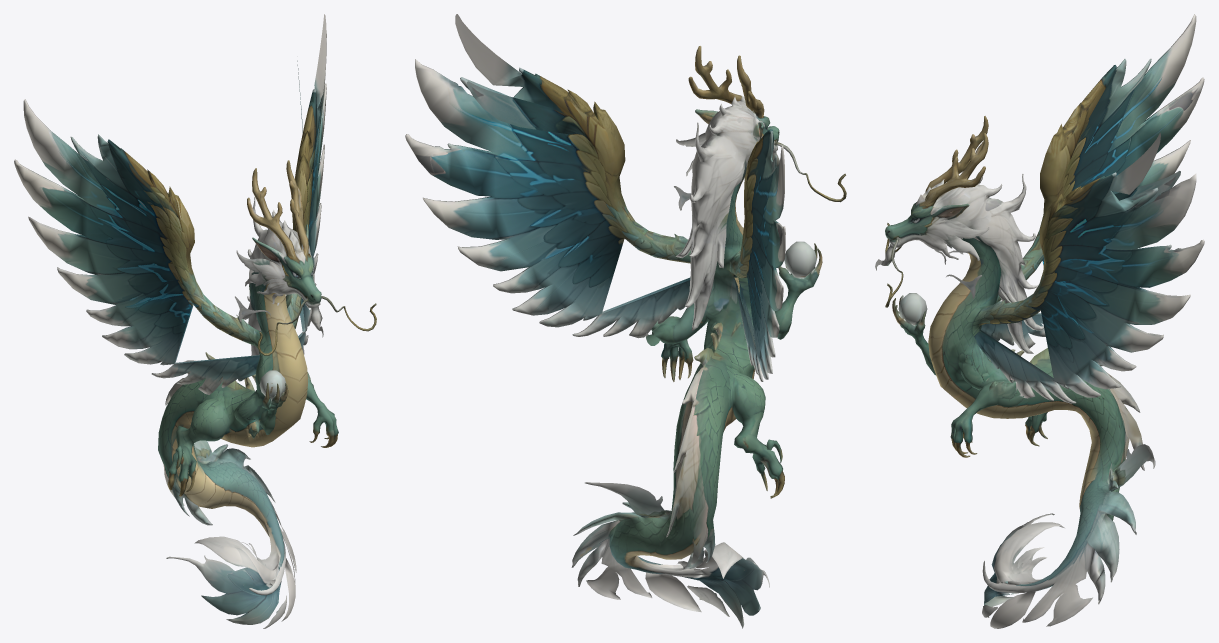
The model's file is SK_Pet_Yinglong_tripo_original.glb.
3 views of the same model, side by side, from view 1: azimuth 30°, elevation 25°; view 2: azimuth 150°, elevation 25°; view 3: azimuth 270°, elevation 25° (orthographic). The views are drawn at different scales.
Visible parts, largest first — view 1: tripo_node_ede616f6-5017-45f5-8a16-89ea60a1208a; view 2: tripo_node_ede616f6-5017-45f5-8a16-89ea60a1208a; view 3: tripo_node_ede616f6-5017-45f5-8a16-89ea60a1208a.
Part boxes in pixels (bbox=[...]): tripo_node_ede616f6-5017-45f5-8a16-89ea60a1208a: bbox=[14, 14, 376, 628]; tripo_node_ede616f6-5017-45f5-8a16-89ea60a1208a: bbox=[405, 14, 846, 628]; tripo_node_ede616f6-5017-45f5-8a16-89ea60a1208a: bbox=[875, 14, 1204, 628].
Size of the model in its own units: 0.6284 by 0.9995 by 0.5356.
1 material, 1 textured.
